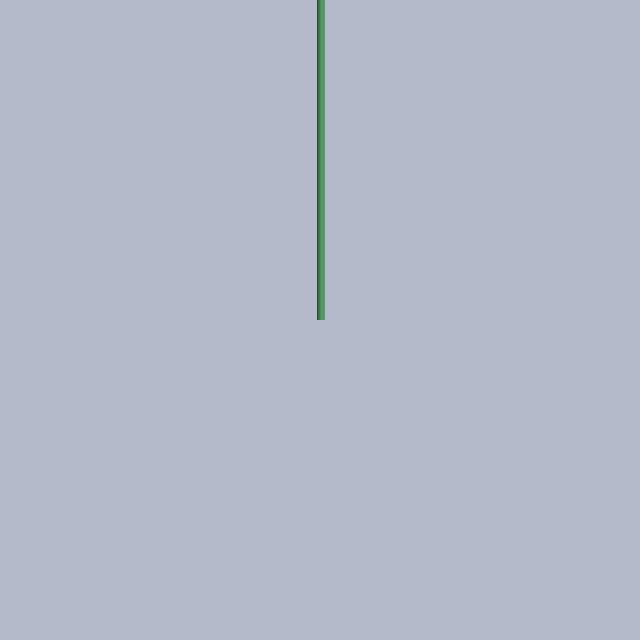Poste: (309, 1, 331, 330)
